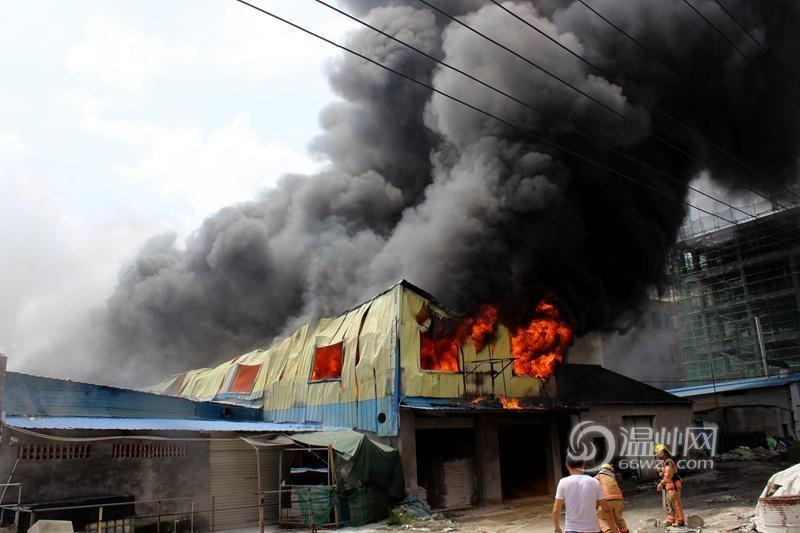fire: (426, 303, 573, 380), (510, 301, 570, 378), (311, 346, 343, 379)
